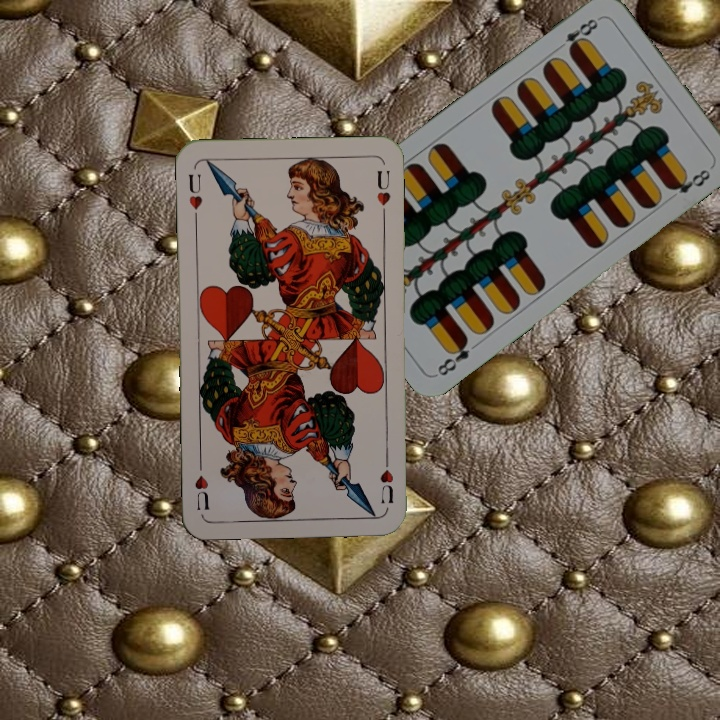E8: (560, 13, 603, 56), (433, 333, 473, 379)
HU: (184, 169, 205, 223), (376, 451, 396, 506)
